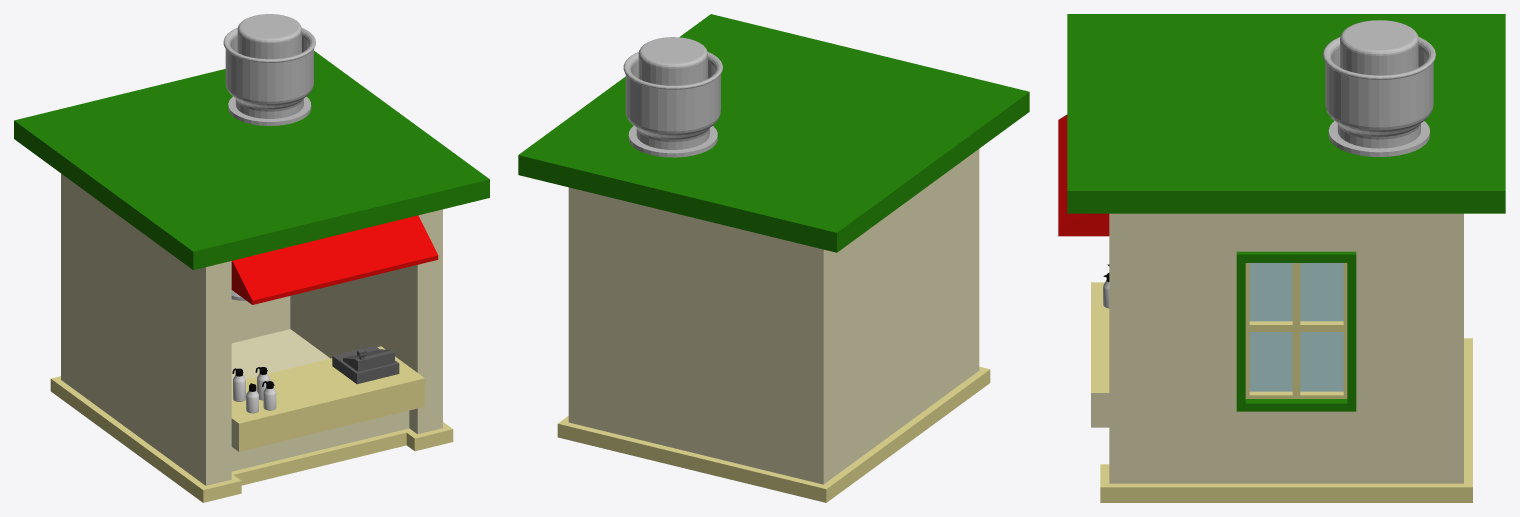
Rendered from Cafe.glb.
3 renders of one model, left to right at view 1: azimuth 30°, elevation 25°; view 2: azimuth 150°, elevation 25°; view 3: azimuth 270°, elevation 25°, orthographic. The views are drawn at different scales.
Parts seen in each view (by area): view 1: cafe, vent, cash register; view 2: cafe, vent; view 3: cafe, vent.
Boxes of the visible parts, bbox=[...] form: cafe: bbox=[14, 51, 489, 502]; vent: bbox=[223, 14, 315, 125]; cash register: bbox=[332, 345, 399, 384]; cafe: bbox=[518, 14, 1029, 502]; vent: bbox=[623, 37, 722, 157]; cafe: bbox=[1058, 14, 1505, 502]; vent: bbox=[1323, 20, 1435, 156].
Bounding box in the file's own units: 2.5 × 2.81 × 2.67.
